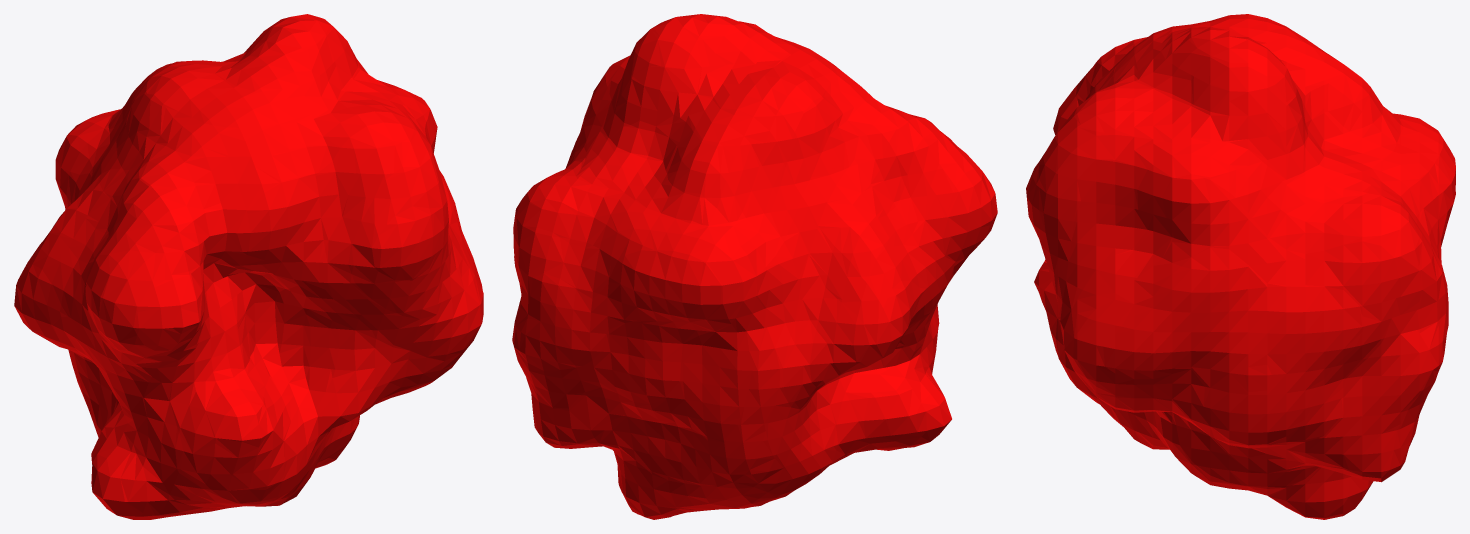
The model's file is kdgK_coarse.dae.
The picture shows the model from 3 angles, left to right: view 1: azimuth 30°, elevation 25°; view 2: azimuth 150°, elevation 25°; view 3: azimuth 270°, elevation 25°; orthographic projection. The views are drawn at different scales.
Visible parts, largest first — view 1: kdgK; view 2: kdgK; view 3: kdgK.
Part boxes in pixels (left/top/right/bottom): kdgK: left=14, top=14, right=483, bottom=519; kdgK: left=512, top=14, right=997, bottom=519; kdgK: left=1026, top=14, right=1455, bottom=519.
Size of the model in its own units: 49.37 by 57.72 by 46.54.
